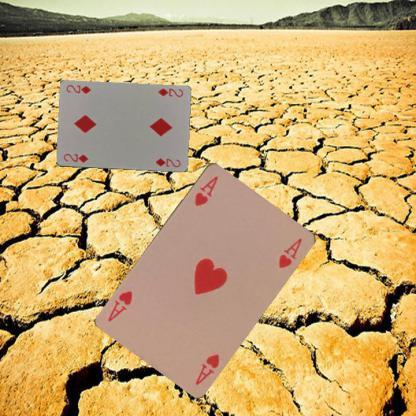2d: (61, 150, 90, 164), (156, 86, 184, 98)
Ah: (191, 172, 220, 208), (192, 350, 221, 386)
